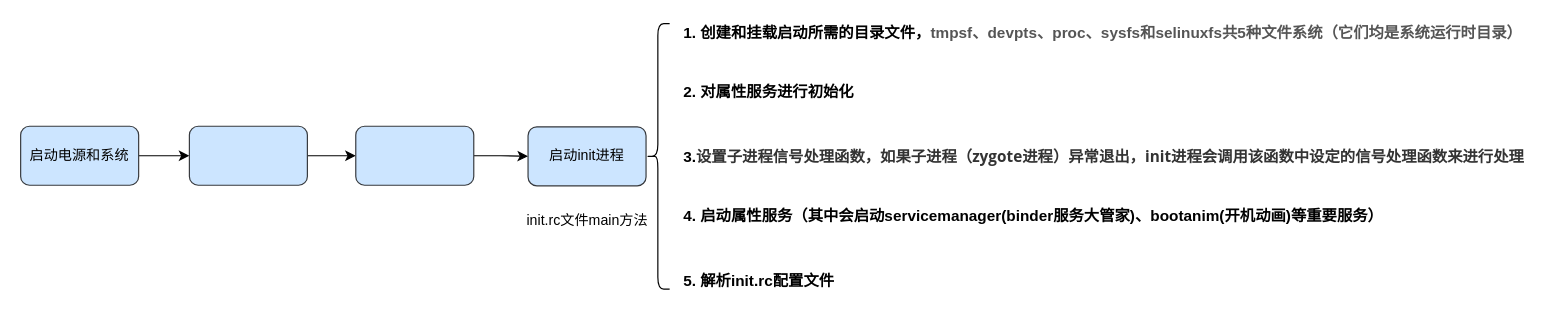
The diagram is 1563 pixels wide and 312 high, and some of its shapes have lost their labels. Each missing label, with the box of its shape:
BootLoader: (188, 125, 307, 185)
Linux内核启动: (355, 125, 474, 185)
